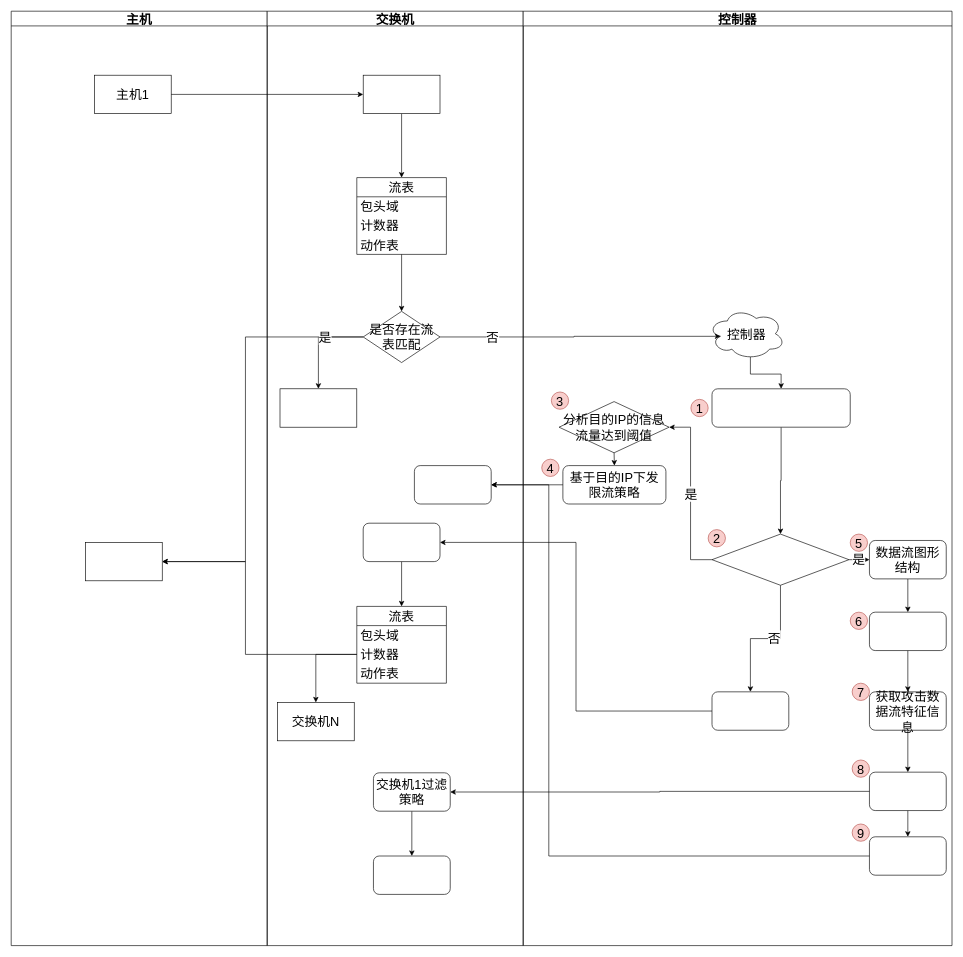
The diagram is 963 pixels wide and 957 high, and some of its shapes have lost their labels. The shapes that lost their labels are listed below. From the top down, each one's box as (x1, y1, x2, y2) in pixels, then its label:
(363, 75, 440, 114): 交换机1
(279, 388, 357, 427): 交换机2
(711, 388, 850, 427): 根据目的IP计算 信息熵+自相似性检测
(414, 465, 491, 504): 交换机1限流策略
(85, 542, 162, 581): 目的主机
(363, 523, 440, 562): 更新交换机1流表
(711, 533, 849, 585): 信息熵/自相似性是否低于阈值
(869, 612, 946, 651): GNN分析异常数据流
(711, 691, 789, 730): 计算下一跳地址
(869, 772, 946, 811): 下发过滤策略
(373, 855, 450, 894): 信息流过滤
(869, 836, 946, 875): 解除目的IP限流策略
